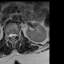CCS_normal: (11, 31, 14, 40)
LFS_normal: (16, 31, 18, 39)
LLS_normal: (14, 31, 16, 39)
RFS_normal: (6, 31, 9, 40)
RLS_normal: (9, 31, 11, 39)
